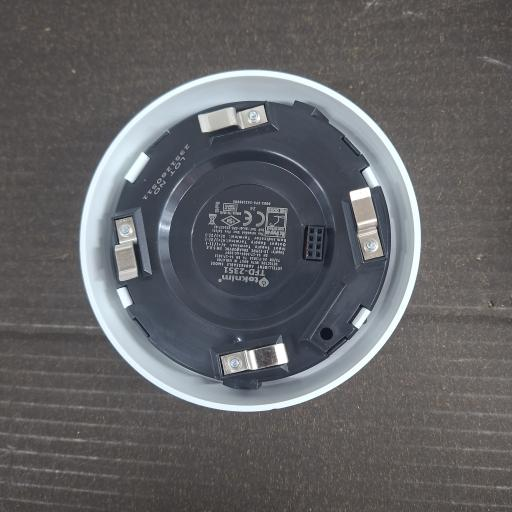yaysiz: (209, 333, 293, 387), (342, 184, 391, 272), (110, 207, 152, 284), (197, 102, 270, 134)
